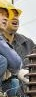boots: (0, 87, 15, 97)
gloves: (17, 68, 29, 84), (27, 57, 36, 71)
hard-hat: (0, 0, 17, 21)
